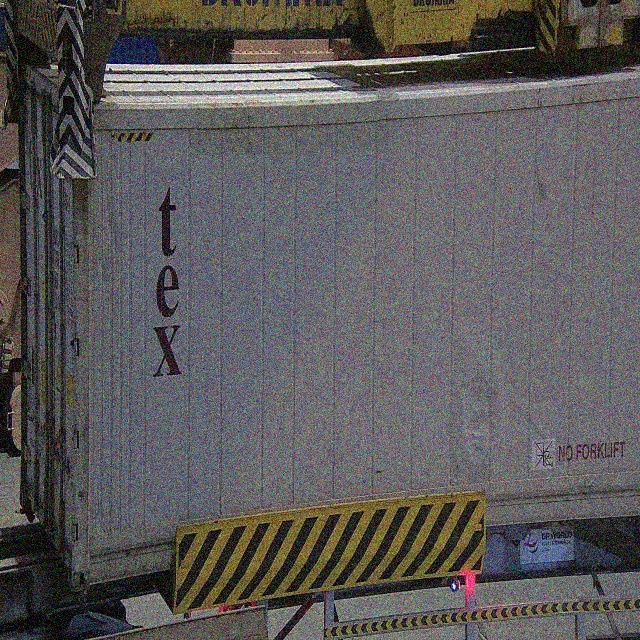Dent: (446, 341, 528, 472)
